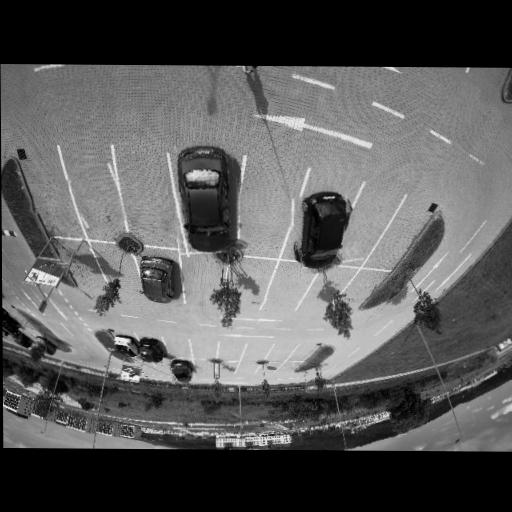busy: (167, 141, 244, 256), (288, 188, 360, 271), (136, 256, 182, 304), (137, 337, 166, 363), (168, 359, 195, 383), (113, 334, 140, 358)
free: (74, 164, 123, 227), (124, 161, 172, 219), (240, 186, 293, 234), (228, 263, 269, 306), (31, 174, 70, 219), (344, 211, 379, 246), (186, 261, 223, 292), (60, 249, 96, 275), (385, 228, 418, 256), (272, 276, 305, 302), (108, 252, 138, 278), (313, 277, 342, 299), (351, 279, 379, 299), (193, 341, 215, 356), (168, 338, 189, 353), (220, 344, 241, 357), (246, 345, 266, 357), (197, 362, 213, 377), (220, 360, 236, 374), (260, 364, 276, 378), (296, 347, 315, 358), (9, 312, 26, 324), (273, 348, 288, 358), (241, 364, 256, 373), (286, 364, 299, 371)
